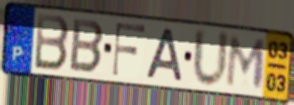A: (143, 27, 185, 85)
B: (33, 11, 71, 73), (68, 17, 106, 76)
F: (110, 21, 148, 78)
M: (224, 34, 269, 90)
U: (191, 26, 231, 91)
